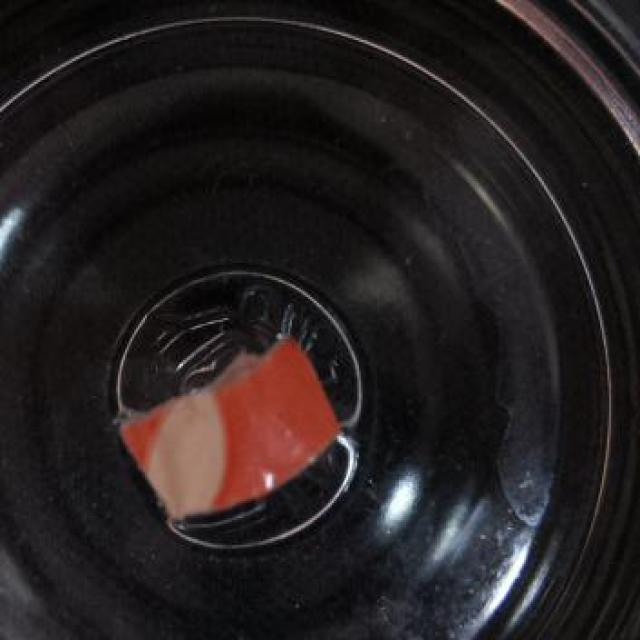fiber: (114, 329, 348, 526)
